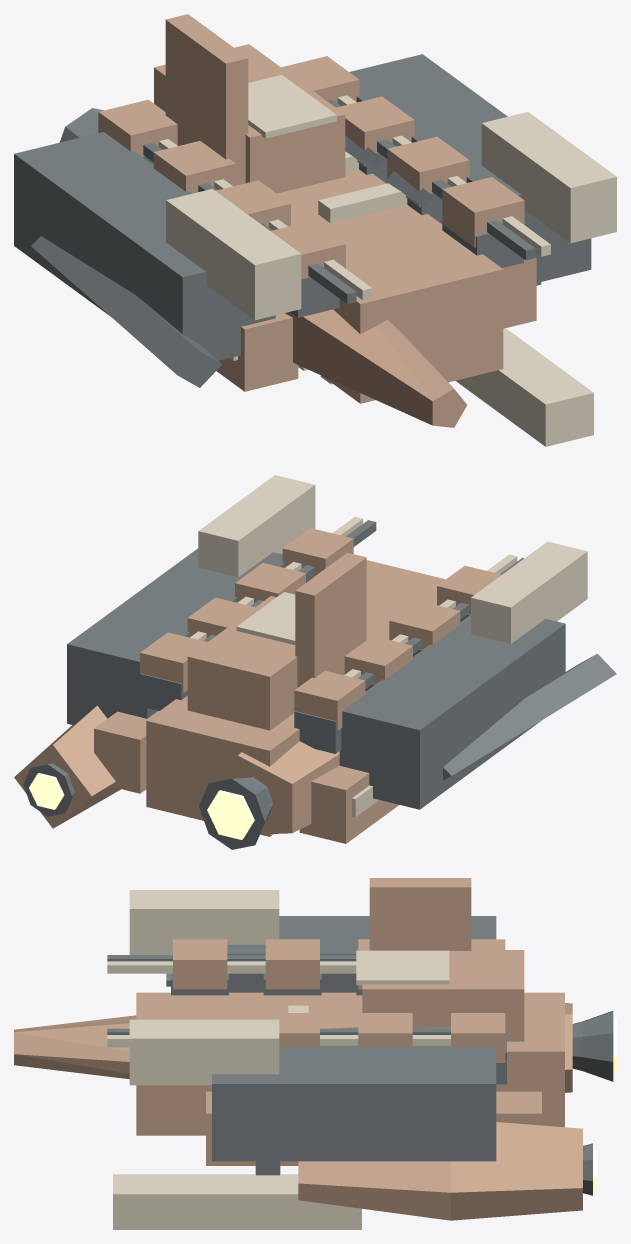
The picture shows the model from 3 angles, top to bottom: view 1: azimuth 30°, elevation 25°; view 2: azimuth 150°, elevation 25°; view 3: azimuth 270°, elevation 25°; orthographic projection. The views are drawn at different scales.
Bounding box in the file's own units: 15.52 × 10.03 × 20.82.
